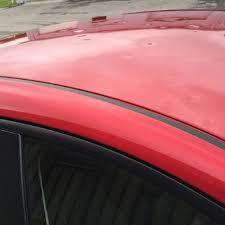roof-dent: (52, 17, 175, 114), (177, 10, 224, 115)
